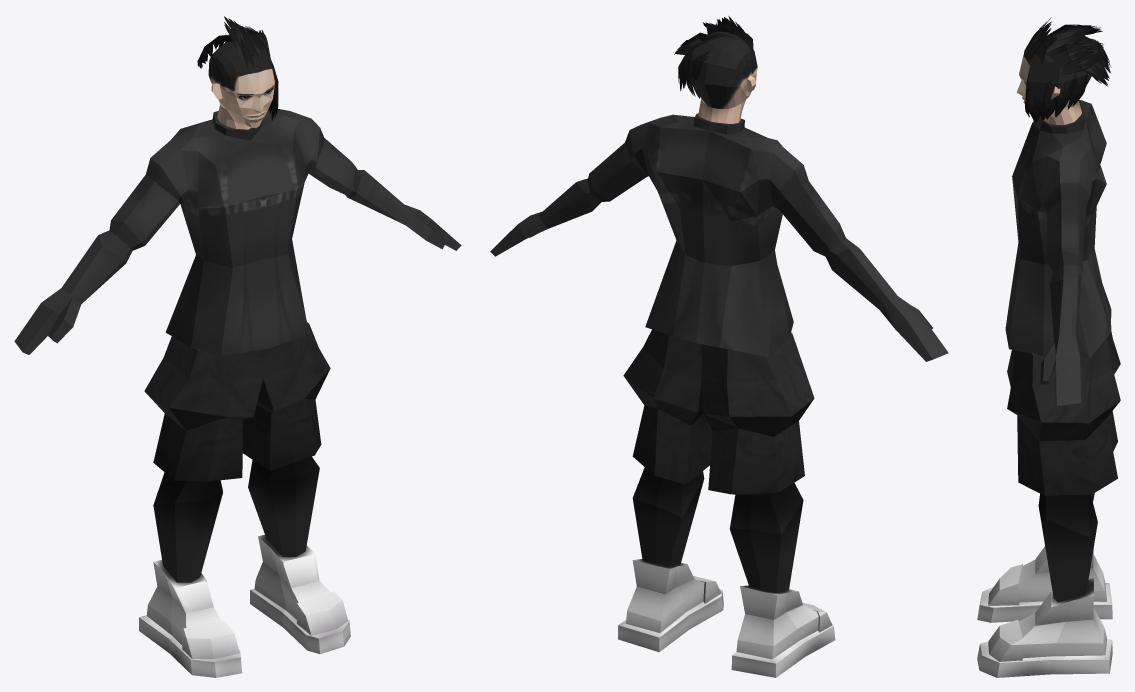
Rendered from Anime head2.fbx.
3 renders of one model, left to right at view 1: azimuth 30°, elevation 25°; view 2: azimuth 150°, elevation 25°; view 3: azimuth 270°, elevation 25°, orthographic. The views are drawn at different scales.
Parts seen in each view (by area): view 1: Torso.001, Legs.001, Sneakers.001, Head.001, Hair.001; view 2: Torso.001, Legs.001, Sneakers.001, Head.001, Hair.001; view 3: Torso.001, Legs.001, Sneakers.001, Hair.001, Head.001.
Part boxes in pixels (box(x1,y1,x2,y2)): Torso.001: box(14, 109, 461, 356); Legs.001: box(144, 322, 330, 582); Sneakers.001: box(139, 534, 350, 677); Head.001: box(208, 41, 275, 129); Hair.001: box(197, 16, 278, 120); Torso.001: box(490, 113, 948, 361); Legs.001: box(623, 329, 814, 592); Sneakers.001: box(618, 559, 835, 677); Head.001: box(691, 34, 757, 123); Hair.001: box(674, 16, 753, 98); Torso.001: box(1005, 100, 1111, 406); Legs.001: box(1007, 332, 1120, 602); Sneakers.001: box(977, 546, 1112, 677); Hair.001: box(1023, 17, 1111, 122); Head.001: box(1016, 44, 1091, 124).
Size of the model in its own units: 1070 by 1429 by 298.
1 material, 1 textured.
